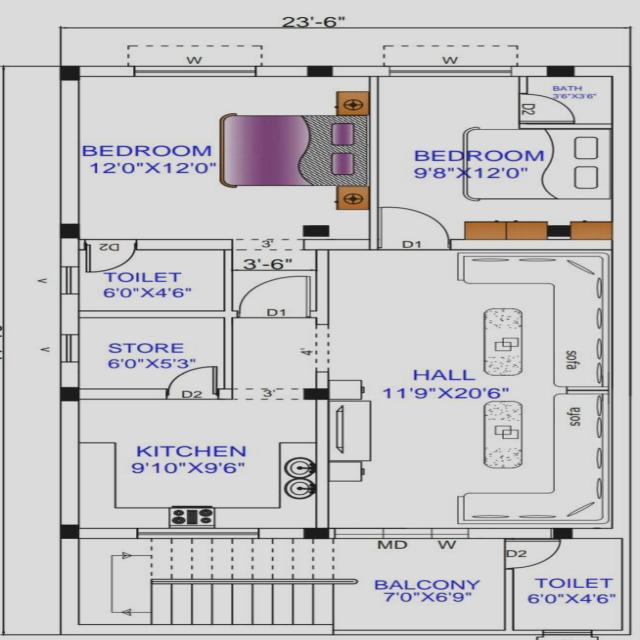column: (50, 383, 90, 405), (540, 524, 584, 544), (536, 60, 579, 80), (52, 221, 90, 243), (294, 524, 338, 542), (296, 385, 336, 404), (298, 62, 338, 80), (53, 522, 85, 544), (53, 62, 84, 84), (297, 223, 337, 240), (540, 222, 574, 240)
